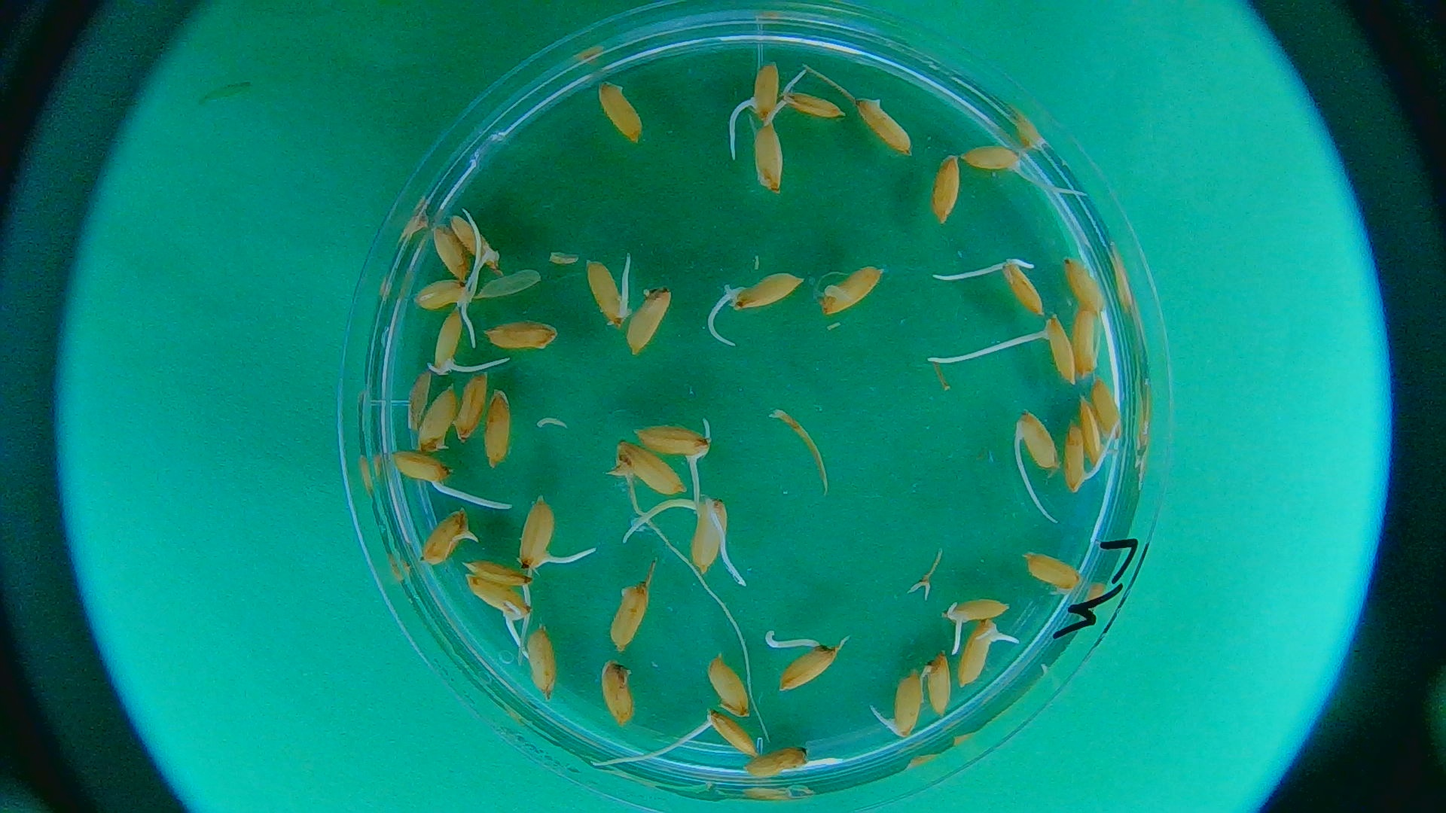no: (855, 91, 916, 154), (627, 283, 675, 356), (1057, 252, 1112, 315), (1021, 548, 1084, 601), (708, 654, 757, 720), (606, 582, 650, 655), (597, 78, 645, 144), (741, 741, 818, 780), (1072, 392, 1109, 468), (416, 382, 455, 453), (749, 121, 786, 193), (528, 626, 564, 700), (599, 659, 637, 729), (481, 388, 513, 469), (454, 370, 489, 444), (486, 319, 559, 352), (430, 221, 468, 284), (1091, 373, 1127, 438), (1070, 308, 1103, 377), (924, 651, 954, 722), (932, 154, 962, 224)
yes: (613, 442, 686, 495), (822, 259, 882, 318), (688, 495, 730, 574), (422, 508, 474, 571), (584, 257, 628, 327), (516, 498, 555, 574), (733, 269, 806, 309), (450, 219, 505, 271), (779, 642, 835, 693), (468, 579, 532, 623), (389, 450, 452, 494), (636, 423, 713, 459), (999, 257, 1045, 315), (705, 708, 759, 757), (1017, 410, 1061, 470), (462, 554, 535, 588), (958, 620, 999, 680), (432, 306, 465, 379), (1042, 313, 1077, 380), (414, 278, 475, 315), (1061, 424, 1093, 493), (965, 140, 1027, 175), (940, 595, 1009, 625), (892, 670, 922, 738), (749, 59, 781, 122), (781, 87, 843, 119)
